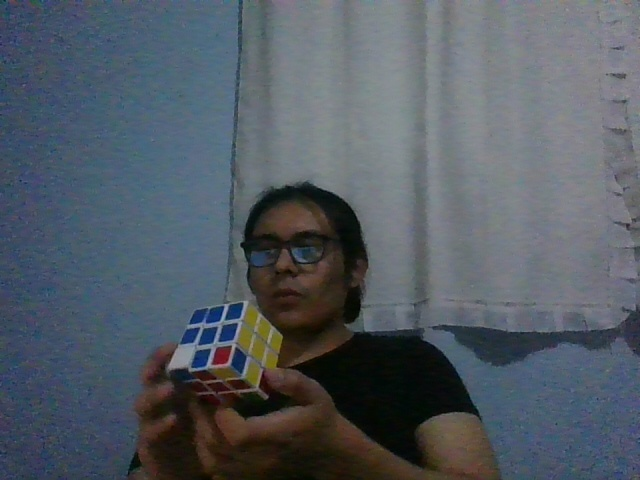rubik: (166, 300, 284, 409)
